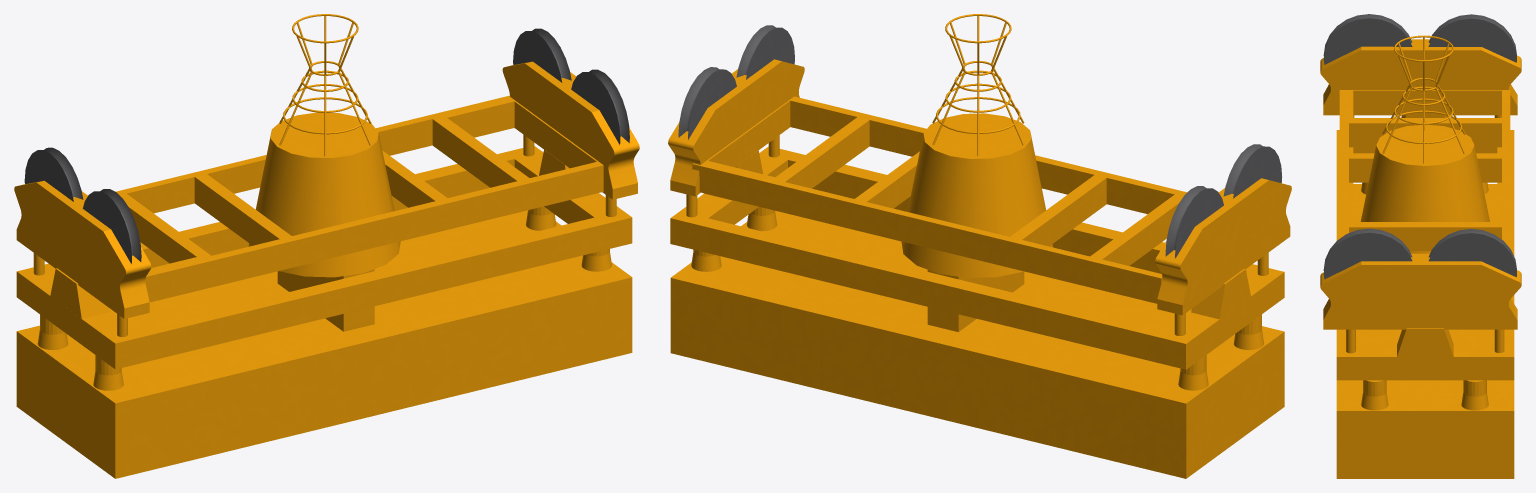
File: STSHoist1.FBX
3 renders of one model, left to right at view 1: azimuth 30°, elevation 25°; view 2: azimuth 150°, elevation 25°; view 3: azimuth 270°, elevation 25°, orthographic. The views are drawn at different scales.
Visible parts, largest first — view 1: STSHoist; view 2: STSHoist; view 3: STSHoist.
Boxes of the visible parts, box(x1,y1,x2,y2) form: STSHoist: box(14, 14, 639, 478); STSHoist: box(668, 14, 1291, 478); STSHoist: box(1320, 14, 1521, 478).
Size of the model in its own units: 544 by 355 by 204.
